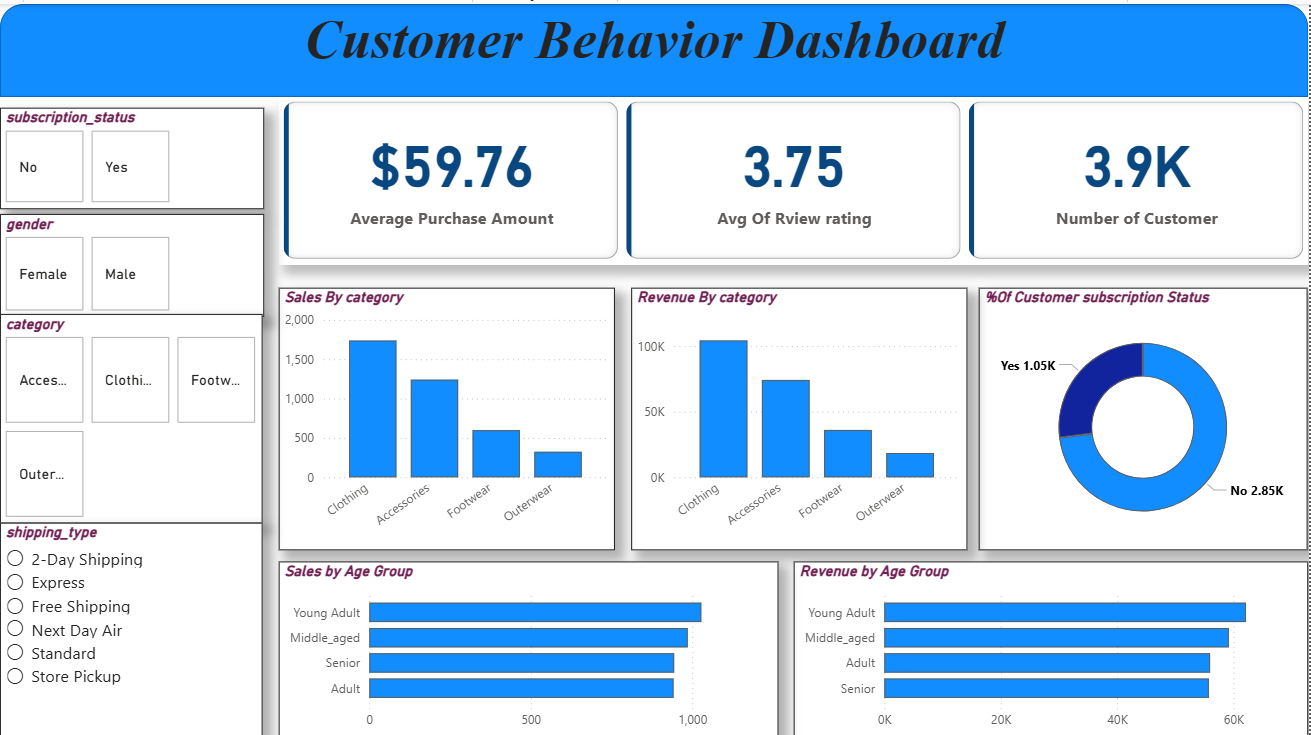

Layout of this report page (visuals, bound fields, positions):
{"tool":"powerbi","page":{"name":"Page 1","canvas":[1280,720],"ordinal":0},"visuals":[{"type":"cardVisual","fields":{"Data":["customer_behavior customer.Average Purchase Amount","customer_behavior customer.Avg Of Rview rating","customer_behavior customer.Number of Customer"]},"box":[272.7,90.9,1007,164.5],"z":0},{"type":"shape","box":[0,0,1279.7,90.9],"z":1000},{"type":"textbox","box":[0,0,1279.7,80.8],"z":2000},{"type":"donutChart","title":"%Of Customer subscription Status","fields":{"Category":["customer_behavior customer.subscription_status"],"Y":["CountNonNull(customer_behavior customer.customer_id)"]},"box":[958,277,321.7,256.8],"z":3000},{"type":"columnChart","title":"Revenue By category","fields":{"Category":["customer_behavior customer.category"],"Y":["Sum(customer_behavior customer.purchase_amount)"]},"box":[617.5,277,328.9,256.8],"z":4000},{"type":"columnChart","title":"Sales By category","fields":{"Category":["customer_behavior customer.category"],"Y":["CountNonNull(customer_behavior customer.customer_id)"]},"box":[272.7,277,328.9,256.8],"z":5000},{"type":"advancedSlicerVisual","fields":{"Values":["customer_behavior customer.subscription_status"]},"box":[0,101,258.3,99.6],"z":6000},{"type":"advancedSlicerVisual","fields":{"Values":["customer_behavior customer.gender"]},"box":[0,204.9,258.3,101],"z":6001},{"type":"advancedSlicerVisual","fields":{"Values":["customer_behavior customer.category"]},"box":[0,303,256.8,204.9],"z":6002},{"type":"listSlicer","fields":{"Values":["customer_behavior customer.shipping_type"]},"box":[0,507.9,256.8,212.1],"z":6003},{"type":"clusteredBarChart","title":"Revenue by Age Group","fields":{"Category":["customer_behavior customer.age_group"],"Y":["Sum(customer_behavior customer.purchase_amount)"]},"box":[776.2,545.4,503.5,174.6],"z":6004},{"type":"clusteredBarChart","title":"Sales by Age Group","fields":{"Category":["customer_behavior customer.age_group"],"Y":["CountNonNull(customer_behavior customer.customer_id)"]},"box":[272.7,545.4,489.1,174.6],"z":6006}]}

Visuals, with their boxes in screenshot pixels (x1, y1, x2, y2), scaled from the page's 1280x720 canvas onto the 1311x735 screenshot:
cardVisual - customer_behavior customer.Average Purchase Amount x customer_behavior customer.Avg Of Rview rating: (279, 93, 1310, 261)
shape: (0, 0, 1310, 93)
textbox: (0, 0, 1310, 82)
"%Of Customer subscription Status" donutChart: (981, 283, 1310, 545)
"Revenue By category" columnChart: (632, 283, 969, 545)
"Sales By category" columnChart: (279, 283, 616, 545)
advancedSlicerVisual - customer_behavior customer.subscription_status: (0, 103, 265, 205)
advancedSlicerVisual - customer_behavior customer.gender: (0, 209, 265, 312)
advancedSlicerVisual - customer_behavior customer.category: (0, 309, 263, 518)
listSlicer - customer_behavior customer.shipping_type: (0, 518, 263, 734)
"Revenue by Age Group" clusteredBarChart: (795, 557, 1310, 734)
"Sales by Age Group" clusteredBarChart: (279, 557, 780, 734)
